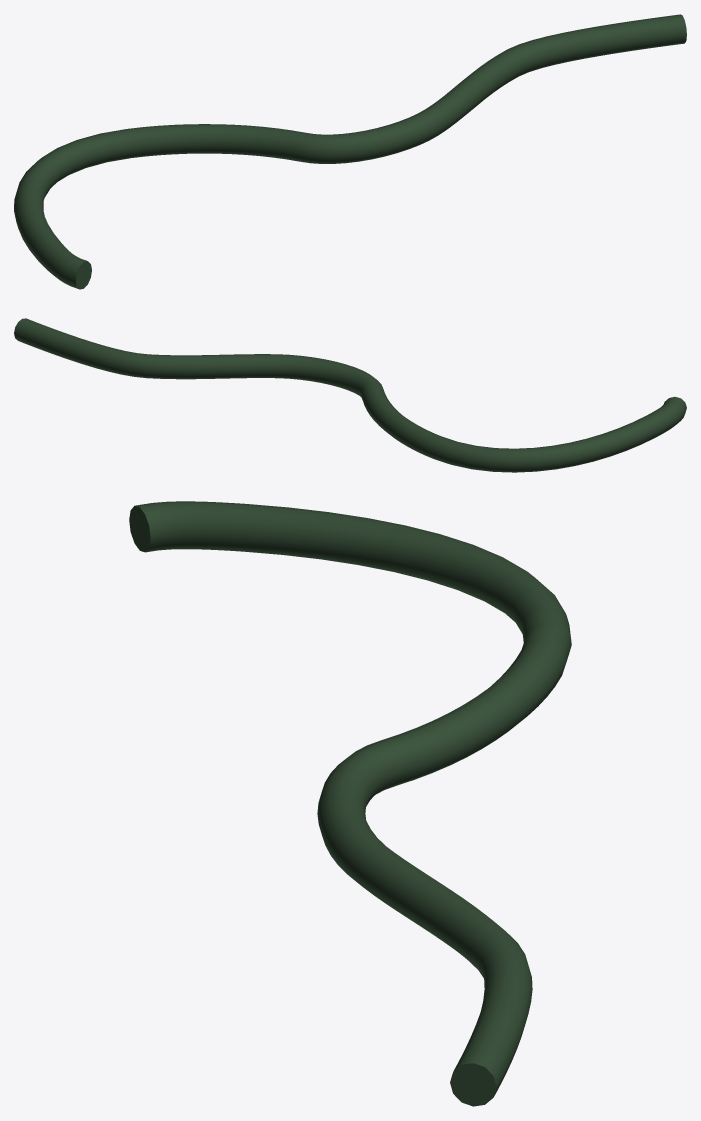
The model's file is Correct_Vine.fbx.
3 views of the same model, one above another, from view 1: azimuth 30°, elevation 25°; view 2: azimuth 150°, elevation 25°; view 3: azimuth 270°, elevation 25° (orthographic). The views are drawn at different scales.
Visible parts, largest first — view 1: BézierCurve; view 2: BézierCurve; view 3: BézierCurve.
Boxes of the visible parts, x1,y1,x2,y2 form: BézierCurve: (14,14,686,289); BézierCurve: (14,318,686,472); BézierCurve: (129,501,571,1106).
Size of the model in its own units: 511 by 18.11 by 167.
